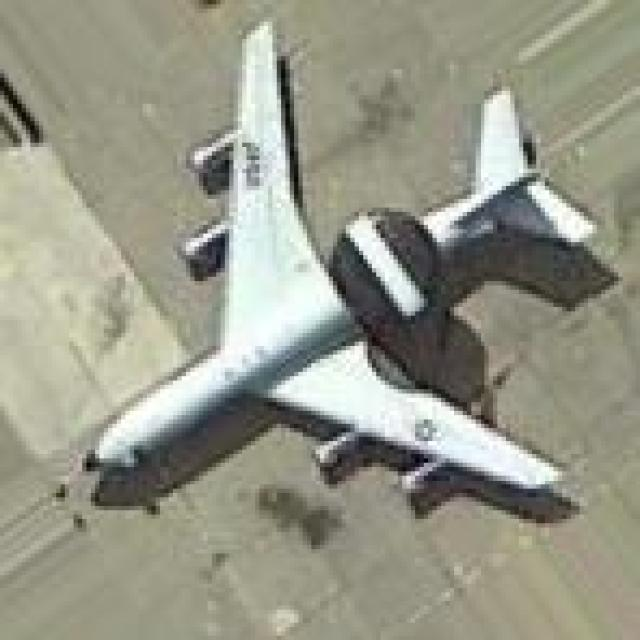E-3_TopDown: (78, 13, 618, 528)
